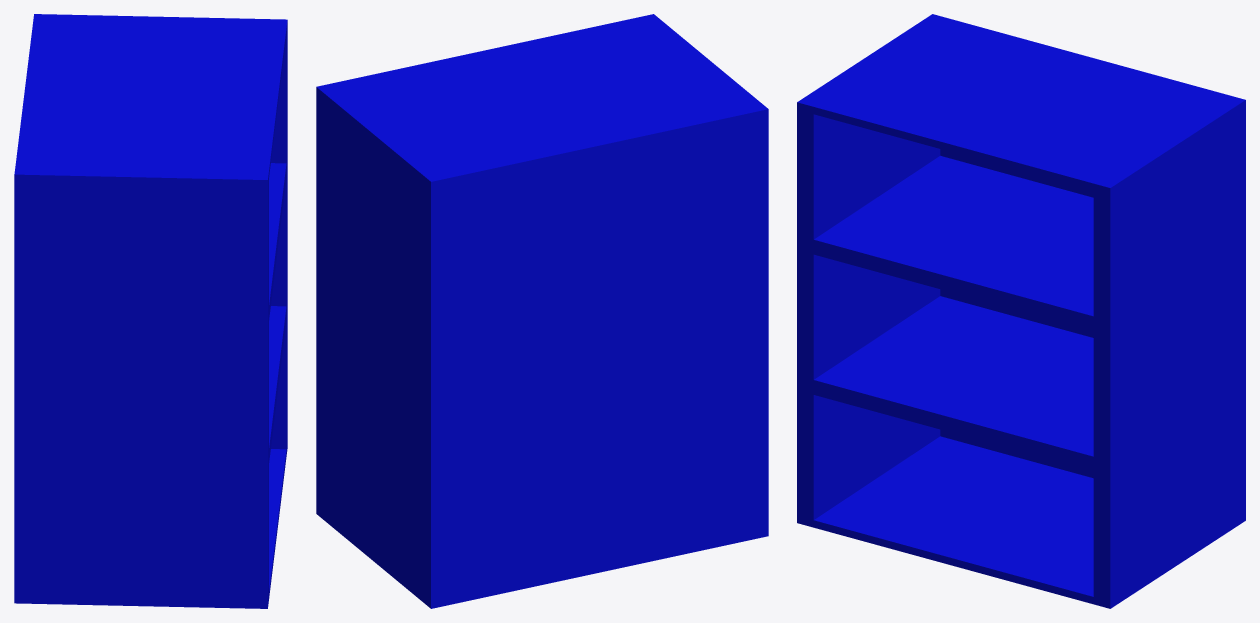
The model's file is lemari alat kecil.fbx.
3 views of the same model, side by side, from view 1: azimuth 30°, elevation 25°; view 2: azimuth 150°, elevation 25°; view 3: azimuth 270°, elevation 25° (orthographic).
Parts seen in each view (by area): view 1: Cube.037; view 2: Cube.037; view 3: Cube.037.
Boxes of the visible parts, <box> form: Cube.037: <box>14,14,287,608</box>; Cube.037: <box>316,14,768,608</box>; Cube.037: <box>797,14,1245,608</box>.
Size of the model in its own units: 723 by 815 by 788.
